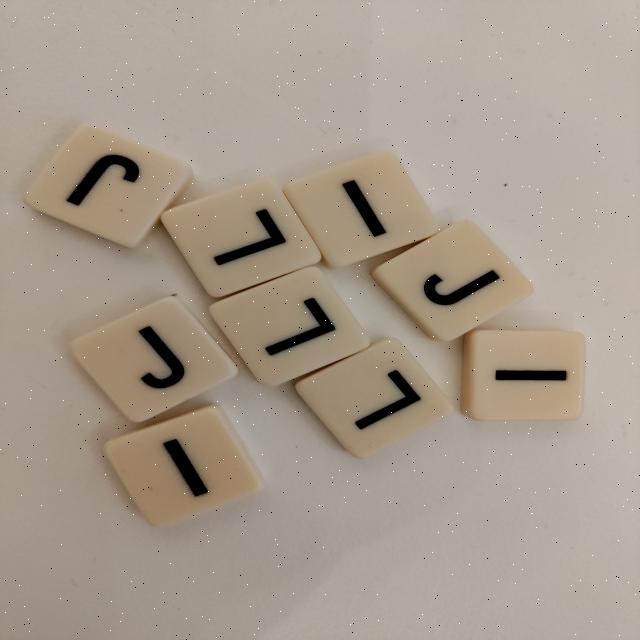i: (97, 402, 268, 529), (279, 147, 444, 271), (461, 330, 587, 420)
j: (18, 120, 203, 253), (62, 294, 243, 426), (369, 218, 540, 346)
l: (205, 263, 376, 391), (290, 335, 458, 462), (158, 176, 325, 301)
